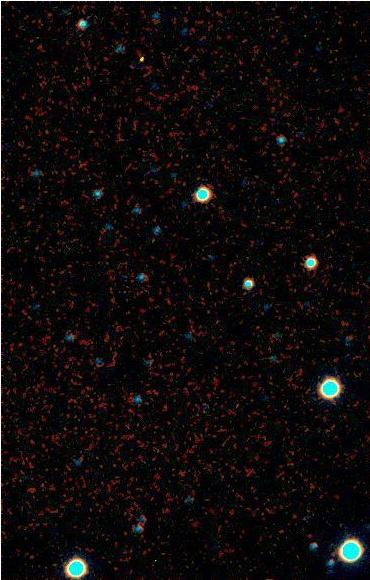star: (119, 46, 149, 76)
